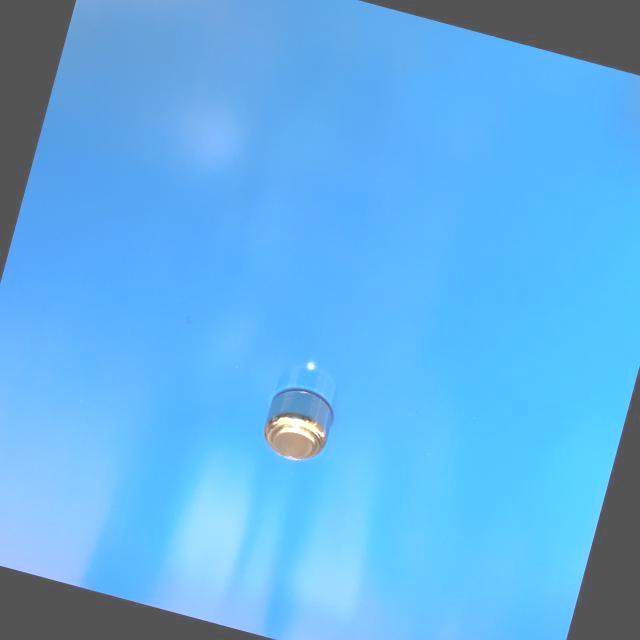COIN: (255, 379, 338, 466)
